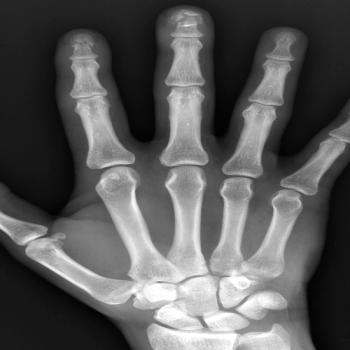Fracture: (164, 5, 214, 32), (61, 31, 107, 59)
